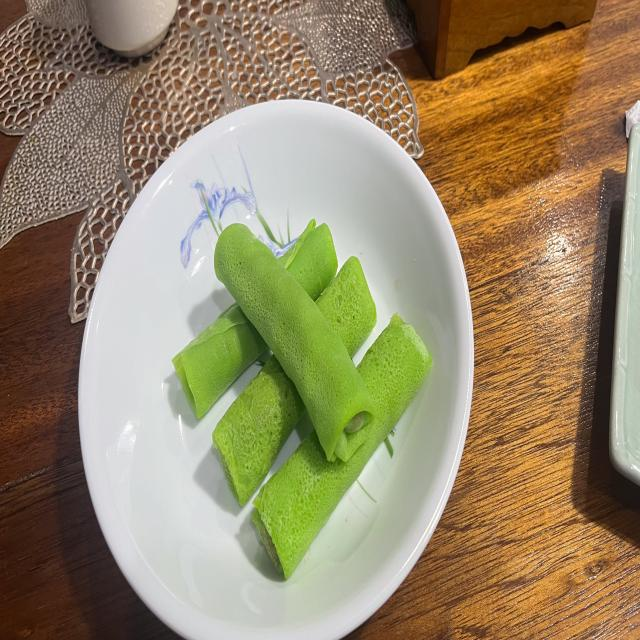Kuih-Ketayap: (252, 313, 431, 578), (214, 224, 375, 460), (212, 356, 305, 507), (172, 302, 266, 418), (316, 256, 376, 356), (278, 220, 338, 300)
